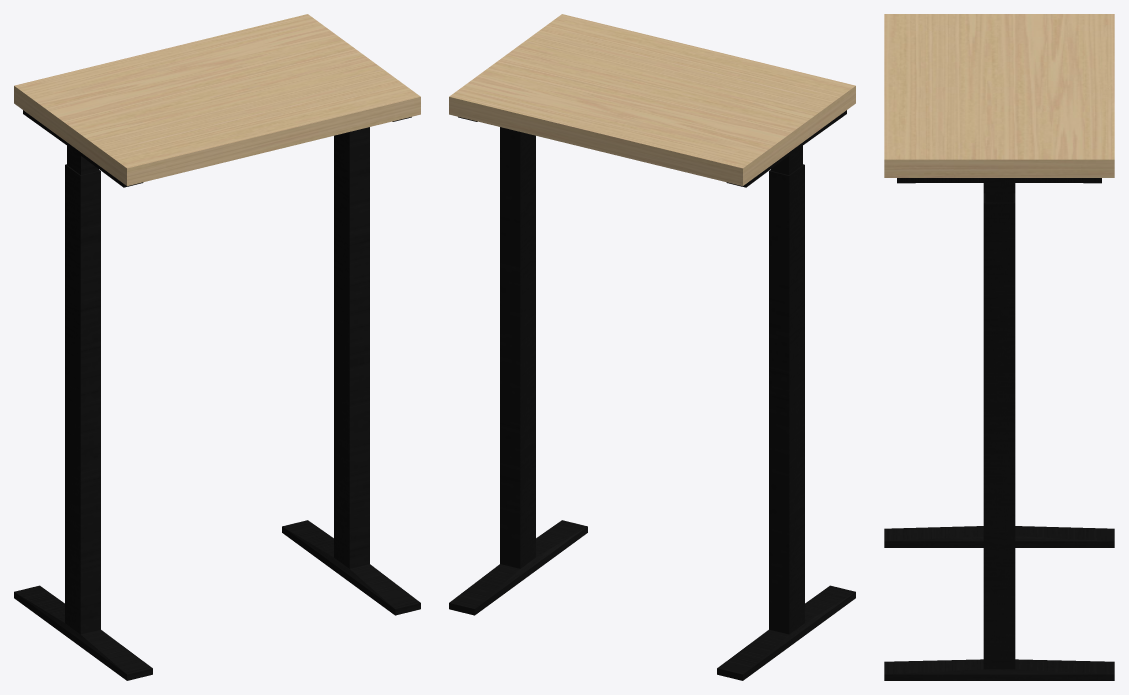
File: adjustableDesk.gltf
The picture shows the model from 3 angles, left to right: view 1: azimuth 30°, elevation 25°; view 2: azimuth 150°, elevation 25°; view 3: azimuth 270°, elevation 25°; orthographic projection.
Parts seen in each view (by area): view 1: adjustableDesk; view 2: adjustableDesk; view 3: adjustableDesk.
Boxes of the visible parts, x1,y1,x2,y2 form: adjustableDesk: (14,14,420,680); adjustableDesk: (449,14,855,680); adjustableDesk: (884,14,1114,680).
Size of the model in its own units: 0.6 by 1 by 0.4.
Materials: 2 (2 with a texture image).
